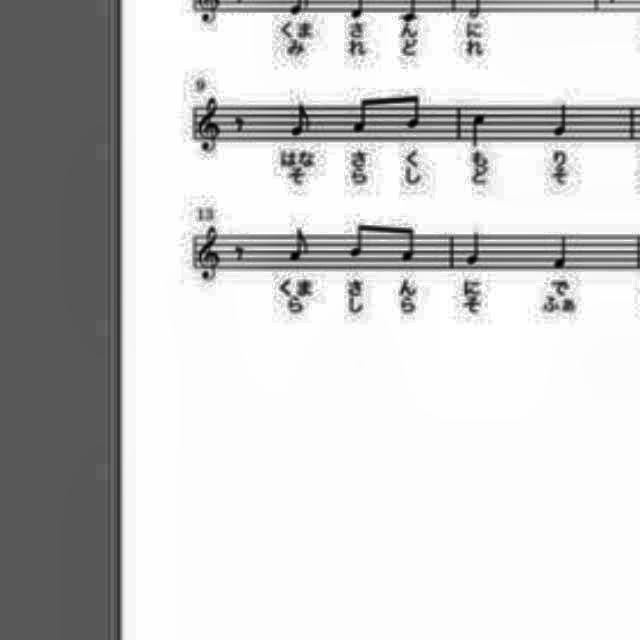Eighth-note: (399, 86, 425, 134), (286, 223, 316, 264), (288, 102, 316, 142), (348, 92, 372, 136), (396, 224, 420, 264), (348, 222, 368, 262)
Eighth-rest: (228, 110, 248, 138), (230, 240, 250, 264)
Quarter-note: (550, 230, 574, 274), (548, 97, 572, 139), (464, 229, 486, 271), (469, 108, 489, 152)
Treble-clef: (193, 224, 230, 292), (193, 93, 227, 159)
